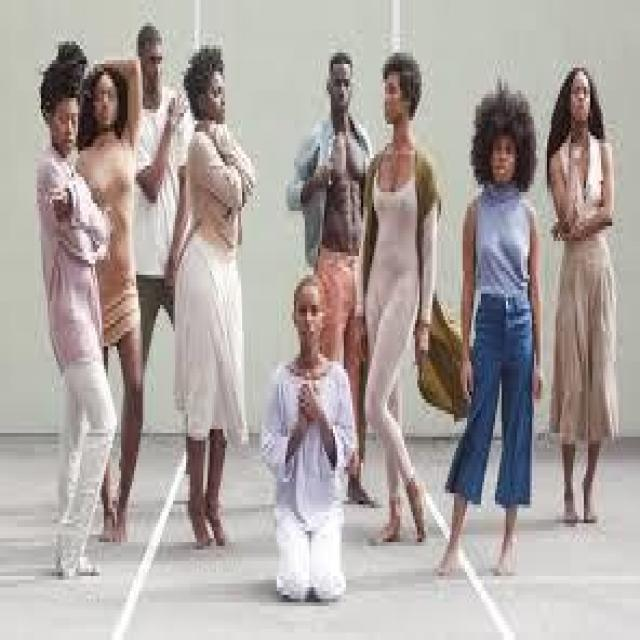person: (448, 83, 554, 636), (15, 26, 113, 606), (348, 45, 454, 569), (540, 49, 638, 587), (160, 45, 257, 576), (292, 22, 393, 516), (244, 260, 374, 617), (50, 23, 134, 542), (112, 4, 194, 516)
